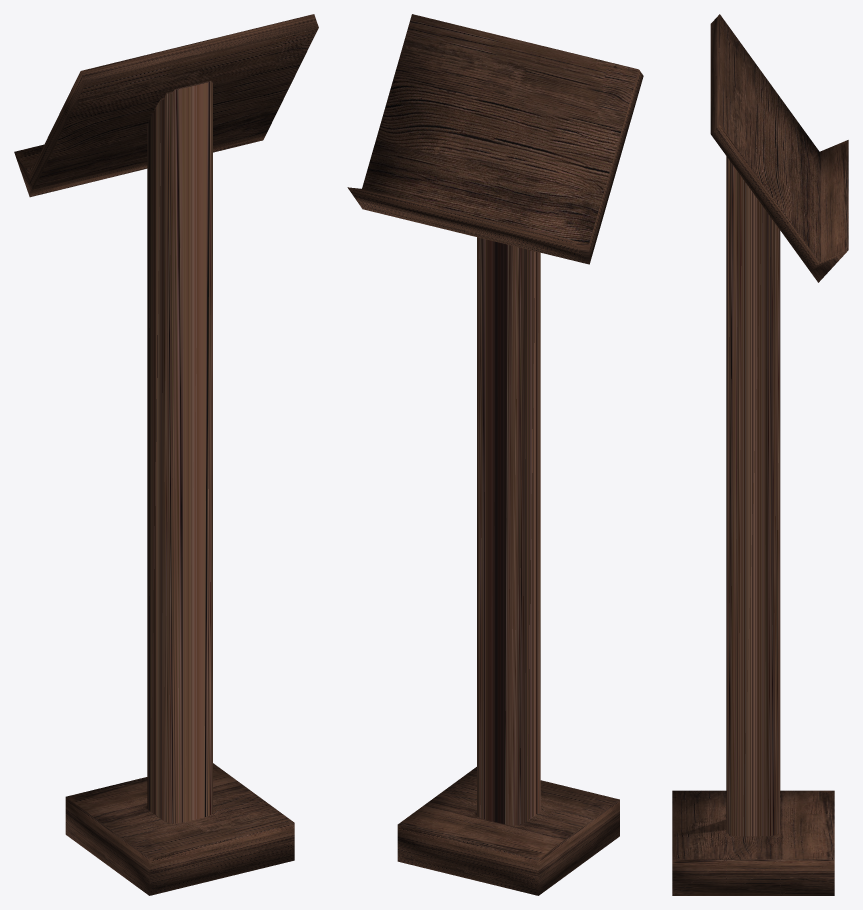
File: lectern_01.glb
3 renders of one model, left to right at view 1: azimuth 30°, elevation 25°; view 2: azimuth 150°, elevation 25°; view 3: azimuth 270°, elevation 25°, orthographic. The views are drawn at different scales.
Parts seen in each view (by area): view 1: Object_2; view 2: Object_2; view 3: Object_2.
Part boxes in pixels (x1,y1,x2,y2): Object_2: (14, 14, 318, 895); Object_2: (347, 14, 643, 895); Object_2: (672, 14, 848, 895).
Size of the model in its own units: 32.21 by 108 by 21.76.
Materials: 1 (1 with a texture image).
